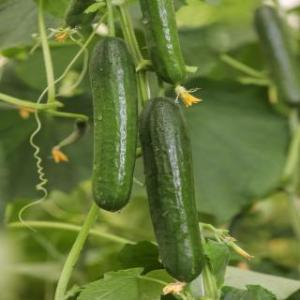cucumber: (136, 94, 210, 286), (87, 32, 141, 215), (248, 3, 300, 109), (134, 1, 186, 84)
